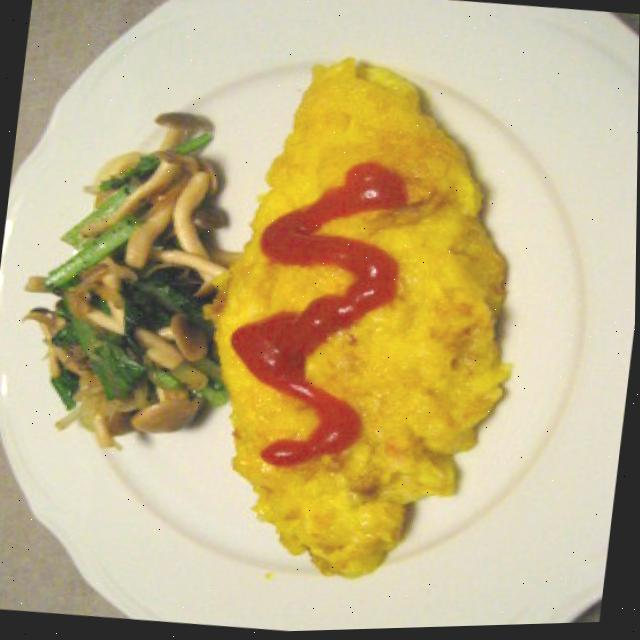鸡蛋料理: (184, 41, 532, 614)
